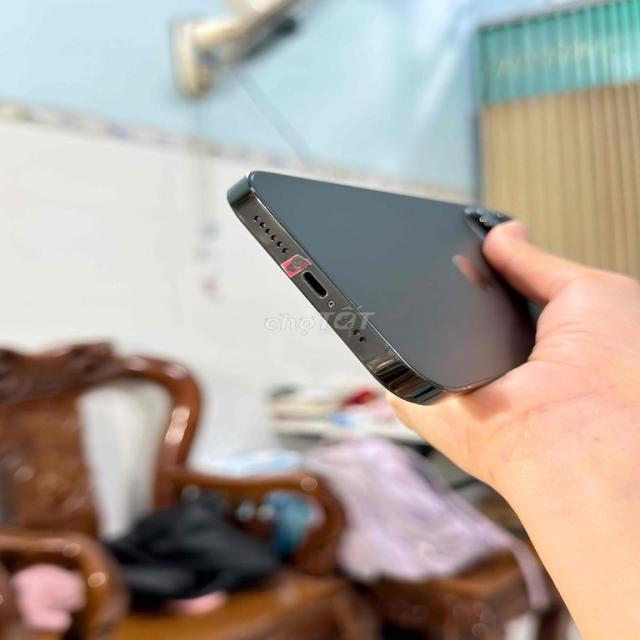gen_14: (221, 163, 579, 420)
